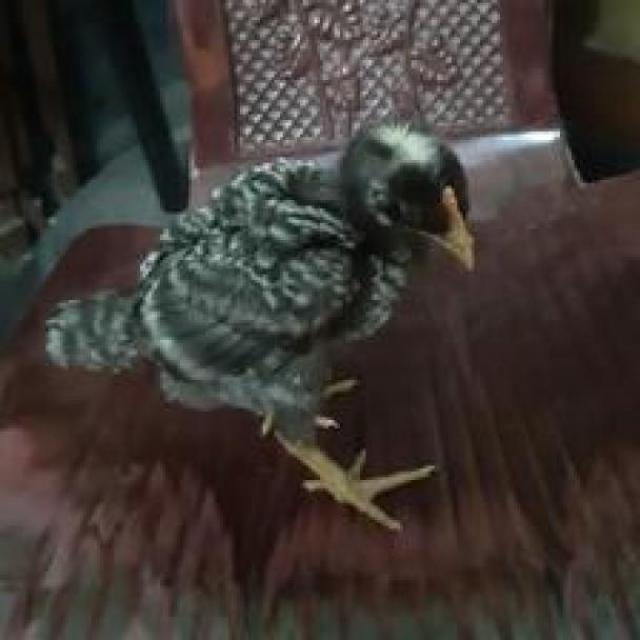Chicken: (54, 112, 512, 570)
